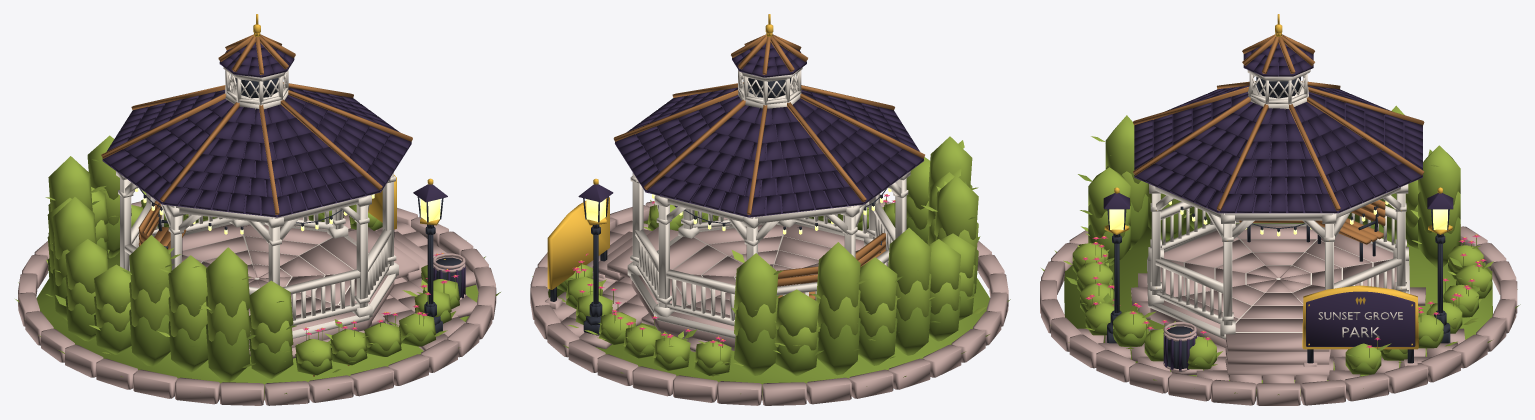
Rendered from bld.gazebo.lod1.glb.
3 renders of one model, left to right at view 1: azimuth 30°, elevation 25°; view 2: azimuth 150°, elevation 25°; view 3: azimuth 270°, elevation 25°, orthographic.
Visible parts, largest first — view 1: object 3, roof, interior; view 2: object 3, roof, interior; view 3: object 3, roof, interior.
Part boxes in pixels (bbox=[...]): object 3: bbox=[15, 79, 500, 405]; roof: bbox=[101, 14, 412, 243]; interior: bbox=[138, 200, 427, 348]; object 3: bbox=[530, 136, 1010, 405]; roof: bbox=[613, 14, 924, 243]; interior: bbox=[586, 222, 887, 350]; object 3: bbox=[1040, 105, 1520, 405]; roof: bbox=[1133, 14, 1424, 239]; interior: bbox=[1147, 200, 1409, 379].
Size of the model in its own units: 10.68 by 7.07 by 10.55.
